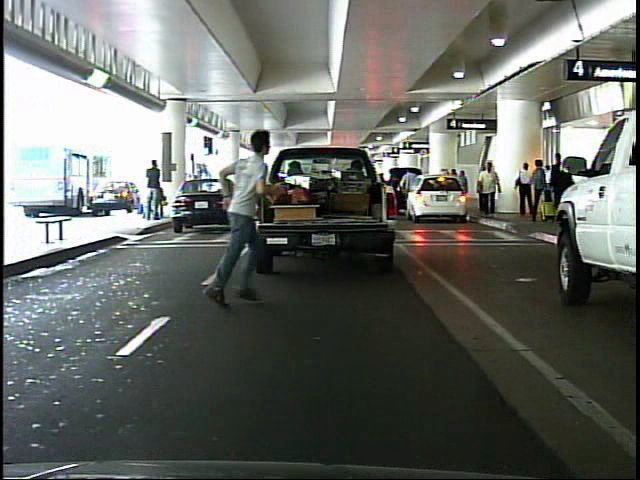person: (177, 123, 285, 319), (474, 156, 503, 225), (550, 152, 573, 223), (515, 156, 538, 219), (530, 158, 551, 225), (147, 157, 169, 219)
